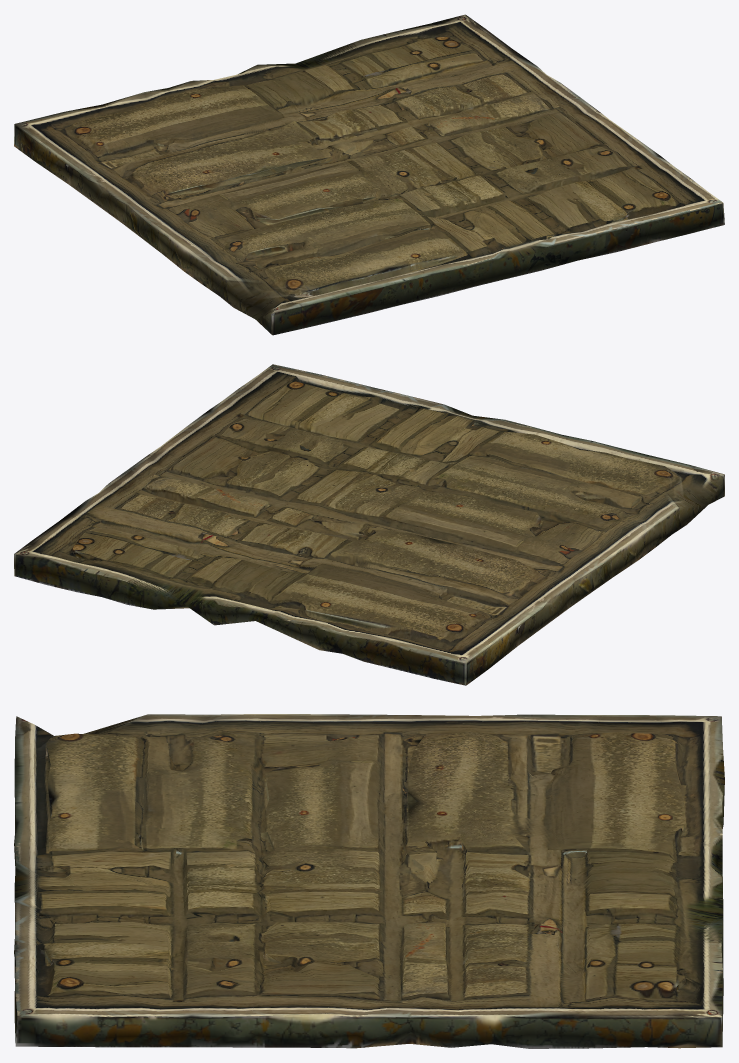
The model's file is EX_Mil_Roof.fbx.
3 views of the same model, one above another, from view 1: azimuth 30°, elevation 25°; view 2: azimuth 150°, elevation 25°; view 3: azimuth 270°, elevation 25° (orthographic). The views are drawn at different scales.
Parts seen in each view (by area): view 1: texture_mapping; view 2: texture_mapping; view 3: texture_mapping.
Boxes of the visible parts, bbox=[...] form: texture_mapping: bbox=[14, 14, 724, 335]; texture_mapping: bbox=[14, 364, 724, 685]; texture_mapping: bbox=[14, 714, 724, 1048].
Bounding box in the file's own units: 0.9997 × 0.9913 × 0.0648.
1 material, 1 textured.
